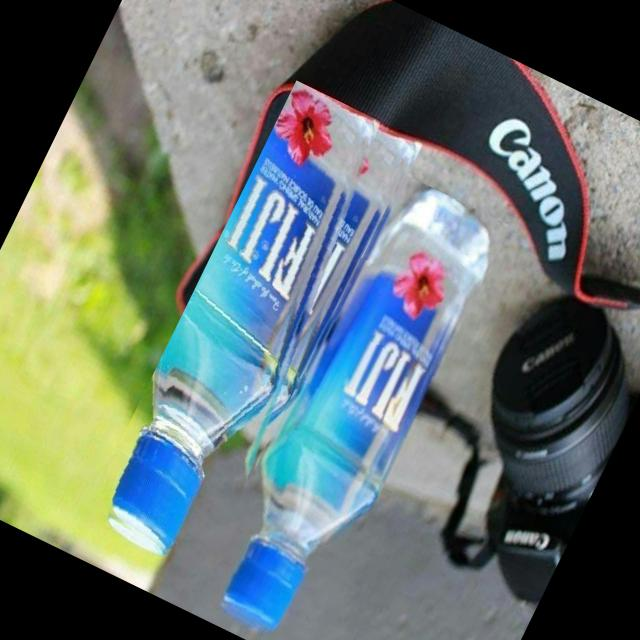plastic bottle: (111, 79, 378, 547), (222, 183, 491, 628)
